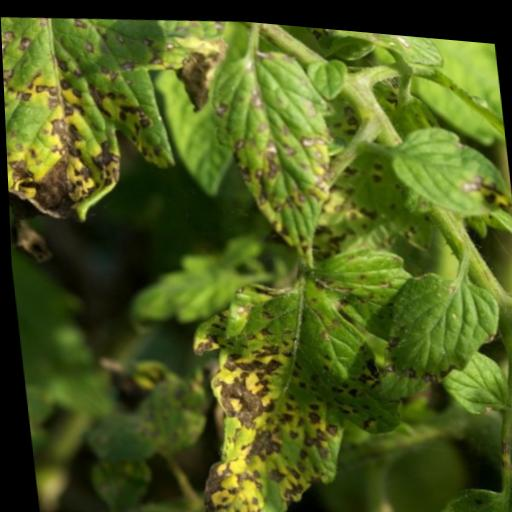Septoria: (168, 227, 435, 512), (0, 2, 233, 239), (203, 32, 352, 274), (368, 255, 506, 386), (385, 107, 512, 217)
